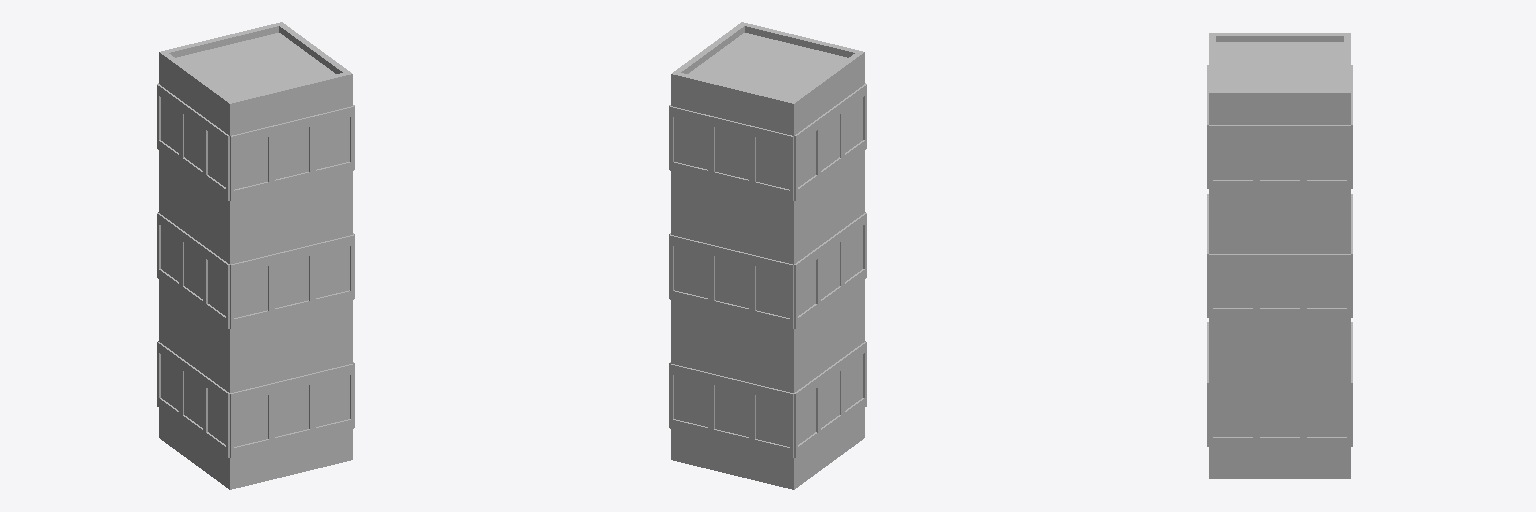
The model's file is TestBldg3.obj.
The picture shows the model from 3 angles: view 1: azimuth 30°, elevation 25°; view 2: azimuth 150°, elevation 25°; view 3: azimuth 270°, elevation 25°; orthographic projection.
Parts seen in each view (by area): view 1: 立方体; view 2: 立方体; view 3: 立方体.
Boxes of the visible parts, x1=… form: 立方体: x1=157, y1=22, x2=354, y2=489; 立方体: x1=669, y1=22, x2=866, y2=489; 立方体: x1=1207, y1=33, x2=1352, y2=478.
Size of the model in its own units: 10.3 by 30 by 10.3.